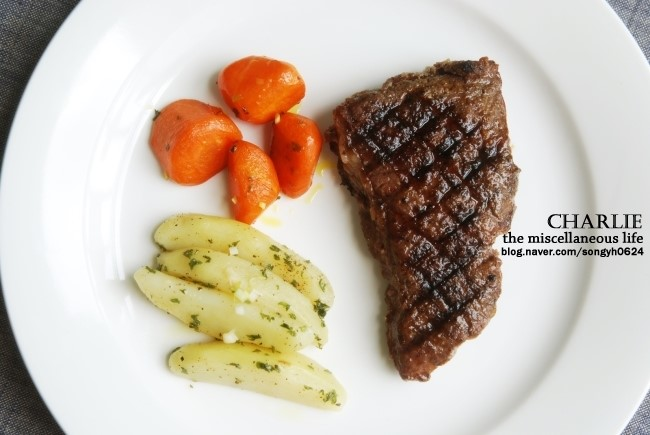boiled potatoes: (138, 231, 339, 391)
